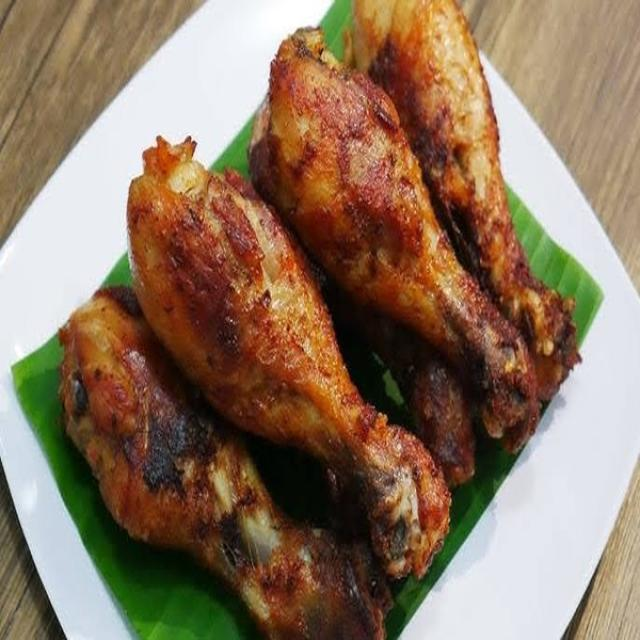CHICKEN FRY: (61, 0, 584, 639)
